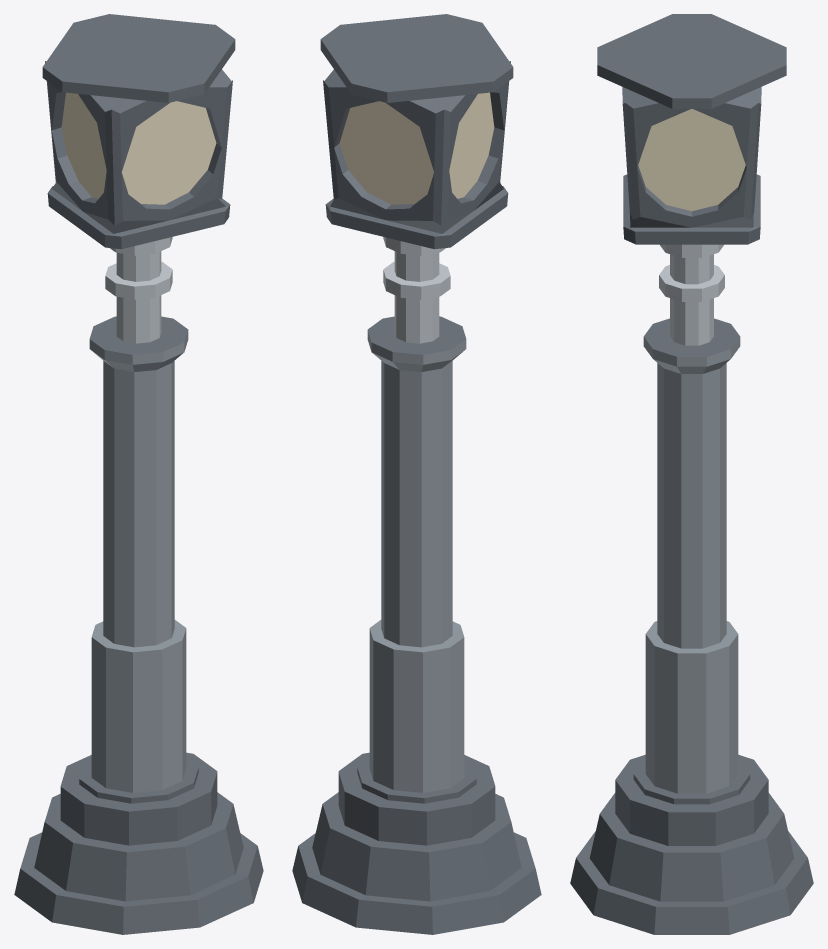
Rendered from STREETLAMP.fbx.
The picture shows the model from 3 angles, left to right: view 1: azimuth 30°, elevation 25°; view 2: azimuth 150°, elevation 25°; view 3: azimuth 270°, elevation 25°; orthographic projection.
Visible parts, largest first — view 1: Cylinder.005; view 2: Cylinder.005; view 3: Cylinder.005.
Part boxes in pixels (x1,y1,x2,y2): Cylinder.005: (14,14,263,934); Cylinder.005: (292,14,541,934); Cylinder.005: (570,14,813,934).
Bounding box in the file's own units: 273 × 1024 × 273.
